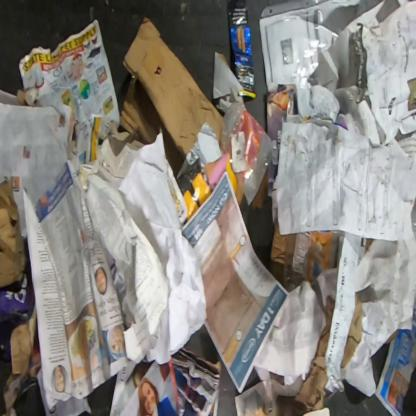cardboard: (119, 15, 224, 179), (0, 178, 36, 375), (268, 219, 340, 294)
rigid_plastic: (221, 96, 275, 206)
soft_plastic: (258, 0, 361, 94)
